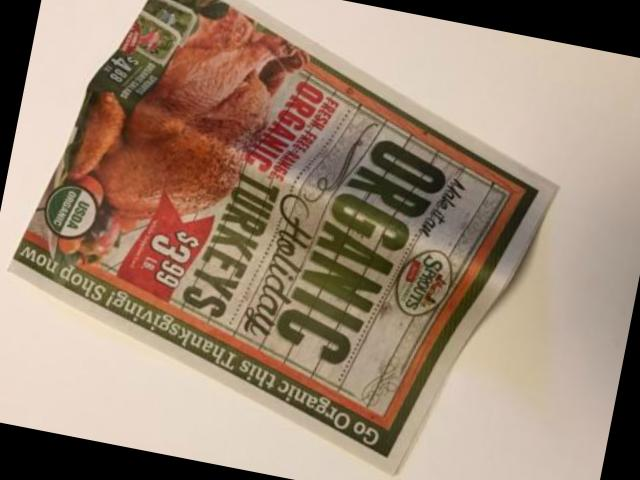cardboard paper: (9, 0, 554, 469)
